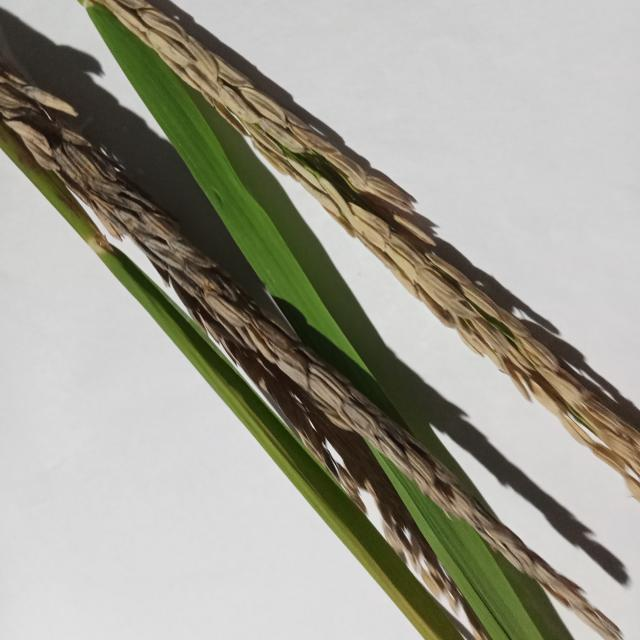Neck_Blast: (0, 59, 636, 640), (93, 0, 640, 499)
